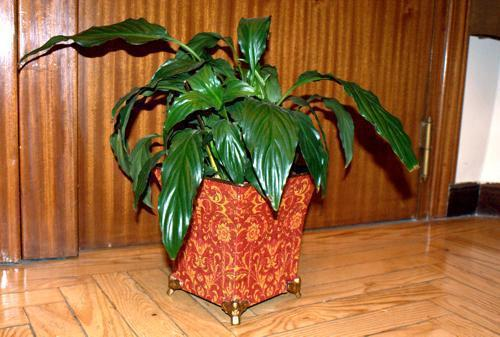Matera: (9, 9, 433, 316)
